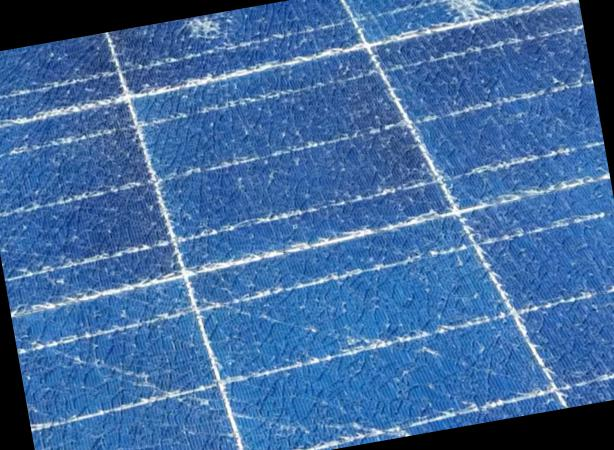Crack: (174, 9, 247, 57), (425, 0, 504, 41)
